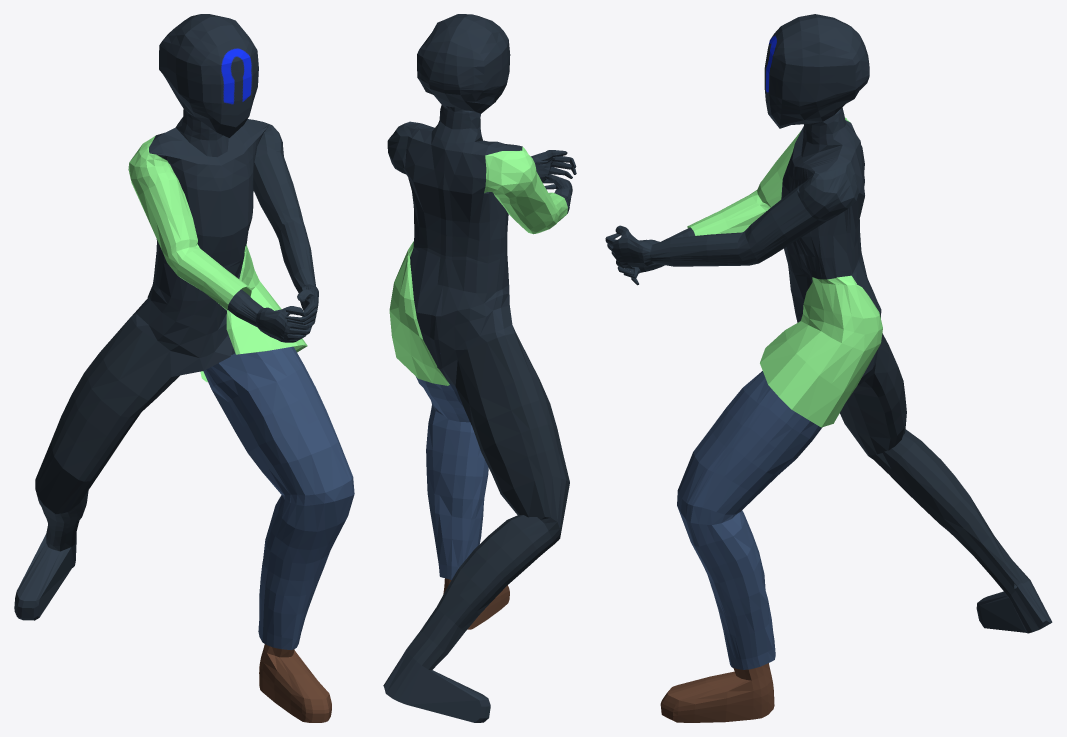
The model's file is Mar_WB_000006.obj.
The picture shows the model from 3 angles, left to right: view 1: azimuth 30°, elevation 25°; view 2: azimuth 150°, elevation 25°; view 3: azimuth 270°, elevation 25°; orthographic projection. The views are drawn at different scales.
Visible parts, largest first — view 1: Cube.000_Cube.001; view 2: Cube.000_Cube.001; view 3: Cube.000_Cube.001.
Boxes of the visible parts, box(x1,y1,x2,y2) form: Cube.000_Cube.001: box(14, 14, 354, 722); Cube.000_Cube.001: box(383, 14, 576, 722); Cube.000_Cube.001: box(605, 14, 1052, 722).
Size of the model in its own units: 1.27 by 3.63 by 2.16.
